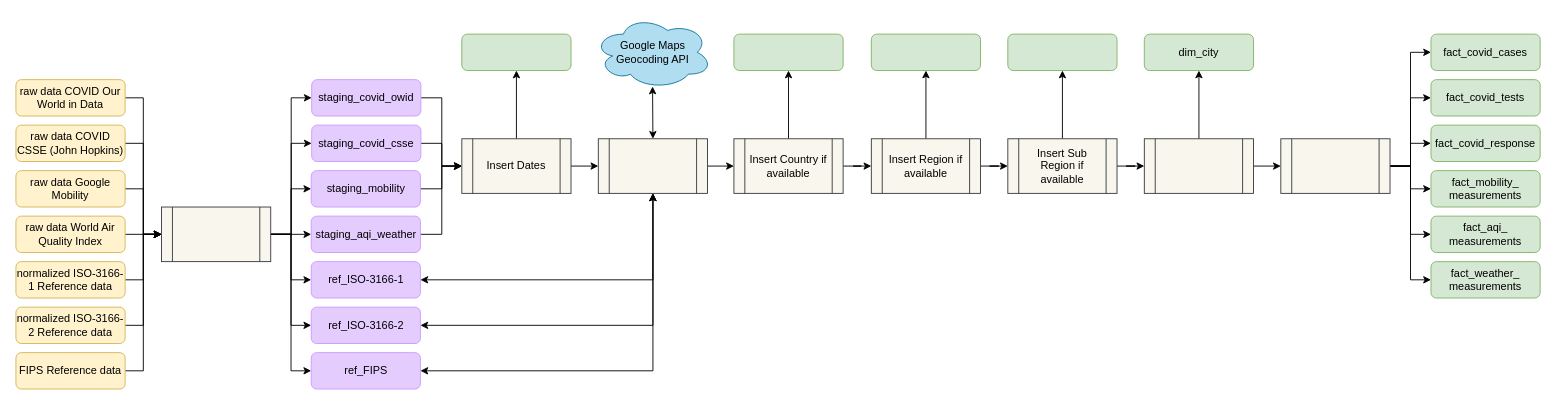
The diagram is 1556 pixels wide and 405 high, and some of its shapes have lost their labels. The centre of each missing label's shape, as x and y in pixels:
"AWS Redshift import" belongs at point (216, 234).
"dim_country" belongs at point (788, 52).
"dim_date" belongs at point (516, 52).
"dim_region" belongs at point (925, 52).
"dim_subregion" belongs at point (1062, 52).
"Insert City if available" belongs at point (1198, 165).
"Insert Facts" belongs at point (1335, 165).
"Lookup and Normalize Location Data" belongs at point (652, 165).
